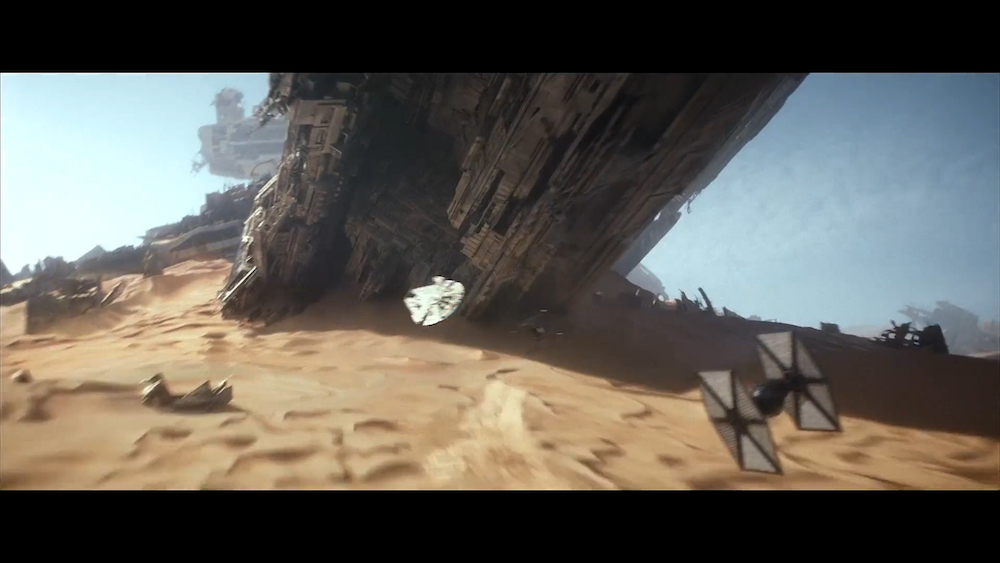Millennium Falcon: (404, 277, 466, 328)
Tie Fighter: (695, 330, 842, 478), (509, 309, 566, 358)
